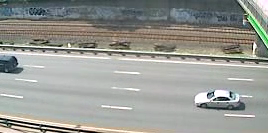car: (192, 87, 244, 114), (1, 53, 23, 74)
